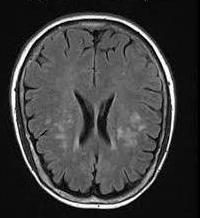Normal_Brain: (1, 1, 191, 218)
